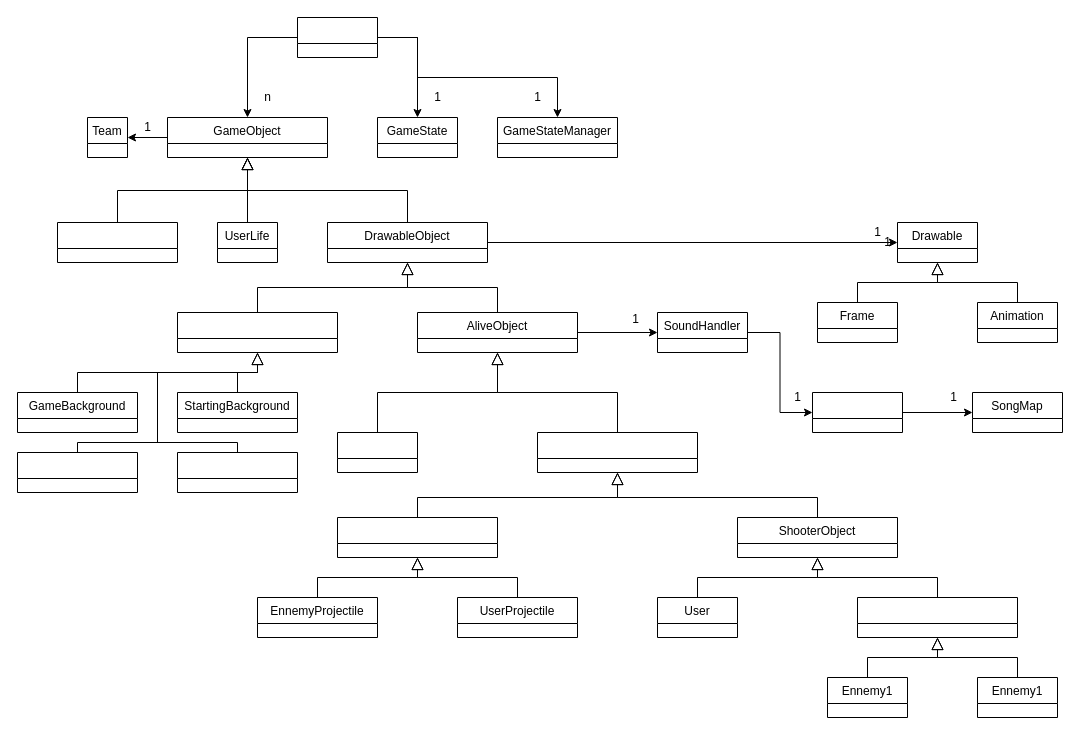
This 1080x735 diagram has some shape labels left out. The centre of each missing label's shape, as x and y in pixels:
BackroundImage: (257,332)
Bunker: (377,452)
DefeatBackground: (77,472)
EnnemyObject: (937,617)
Game: (337,37)
MovingObject: (617,452)
ObjectsContainer: (117,242)
ProjectileObject: (417,537)
SongManager: (857,412)
VictoryBackground: (237,472)
